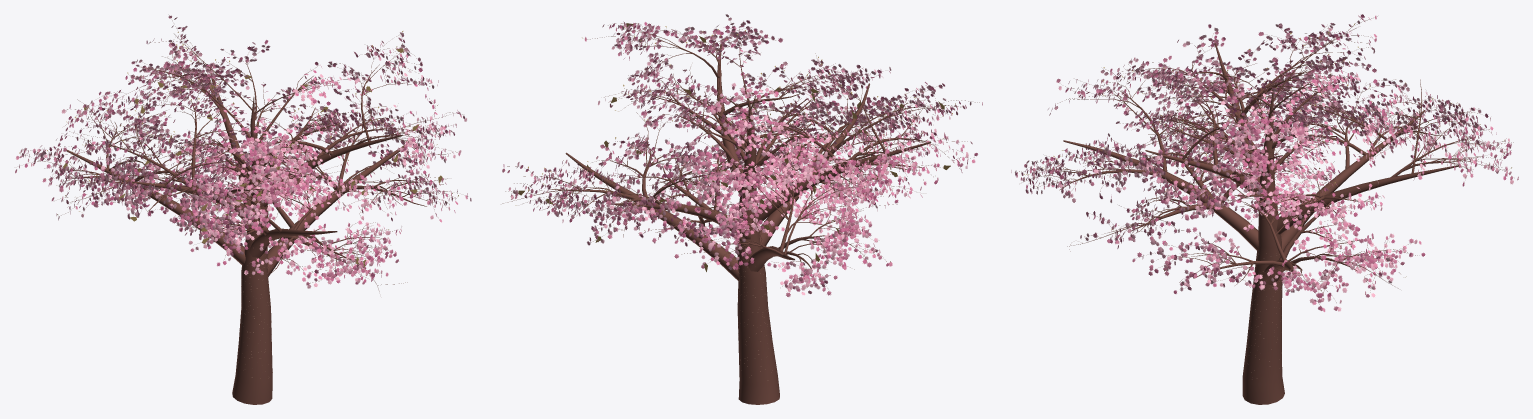
File: kanzan_01.glb
The picture shows the model from 3 angles, left to right: view 1: azimuth 30°, elevation 25°; view 2: azimuth 150°, elevation 25°; view 3: azimuth 270°, elevation 25°; orthographic projection. The views are drawn at different scales.
Visible parts, largest first — view 1: Kanzan Bark | warm reddish brown, Kanzan Petals | pale pink, Kanzan Petals | blush, Kanzan Petals | warm pink; view 2: Kanzan Bark | warm reddish brown, Kanzan Petals | pale pink, Kanzan Petals | blush, Kanzan Petals | warm pink; view 3: Kanzan Bark | warm reddish brown, Kanzan Petals | pale pink, Kanzan Petals | blush, Kanzan Petals | warm pink, Kanzan Young leaves | bronze green.
Part boxes in pixels (x1,y1,x2,y2): Kanzan Bark | warm reddish brown: (23,15,462,404); Kanzan Petals | pale pink: (19,17,466,288); Kanzan Petals | blush: (15,15,471,285); Kanzan Petals | warm pink: (22,38,467,284); Kanzan Bark | warm reddish brown: (502,17,979,404); Kanzan Petals | pale pink: (508,14,972,295); Kanzan Petals | blush: (502,21,982,296); Kanzan Petals | warm pink: (503,20,977,291); Kanzan Bark | warm reddish brown: (1015,16,1513,404); Kanzan Petals | pale pink: (1011,15,1513,311); Kanzan Petals | blush: (1021,15,1518,311); Kanzan Petals | warm pink: (1015,14,1510,309); Kanzan Young leaves | bronze green: (1024,23,1511,291).
Bounding box in the file's own units: 7.88 × 6.46 × 8.11.
